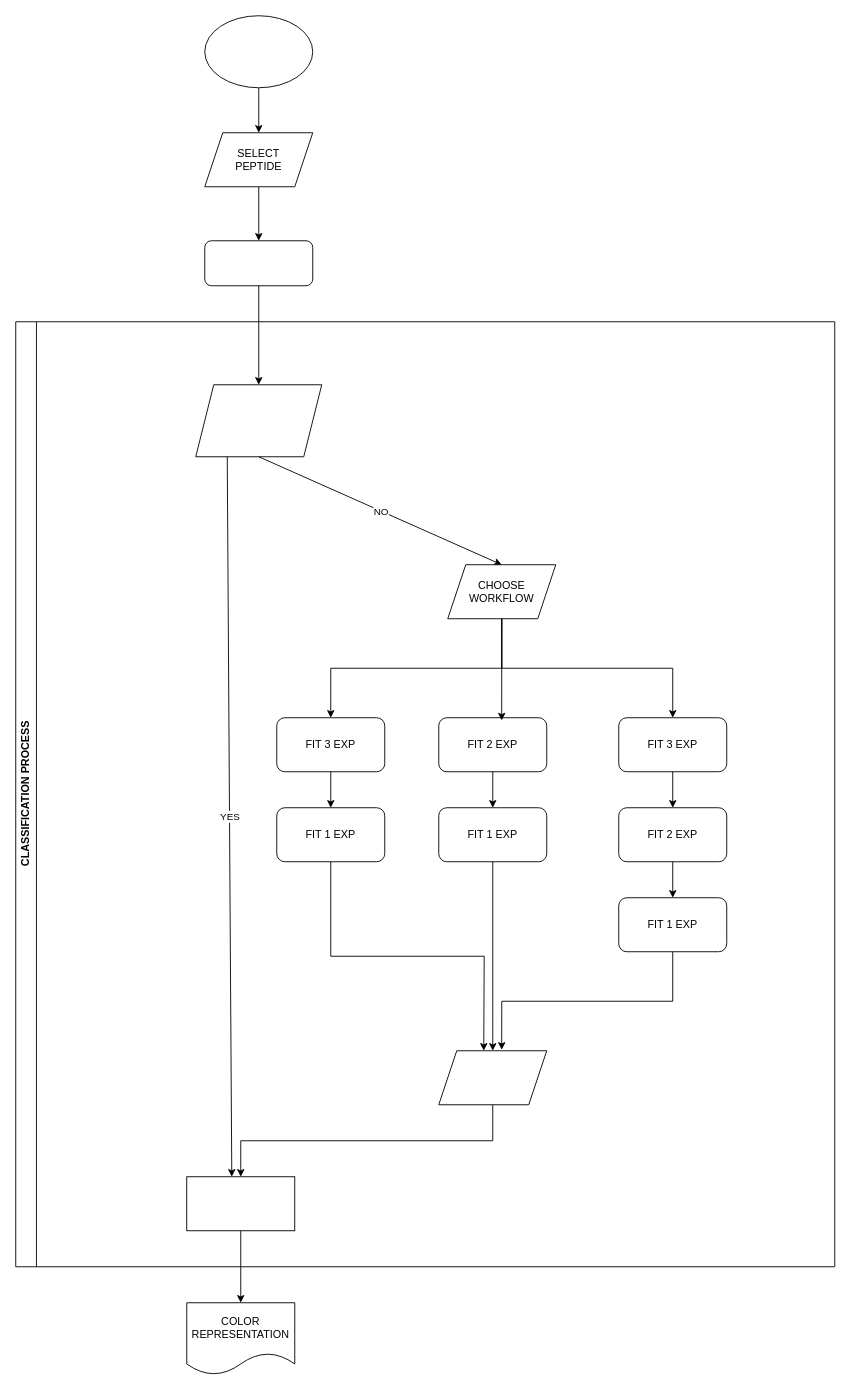
Image size: 851x1391. Some labels were removed from this diagram. Each missing label, with the box of its shape:
ASSIGN PARAMETERS: (186, 1176, 295, 1231)
CSV FILE: (204, 15, 313, 88)
EXTREME CASE DETECTED?: (195, 384, 322, 457)
SELECT BEST RESULT: (438, 1050, 547, 1105)
UPTAKE CURVE: (204, 240, 313, 286)
